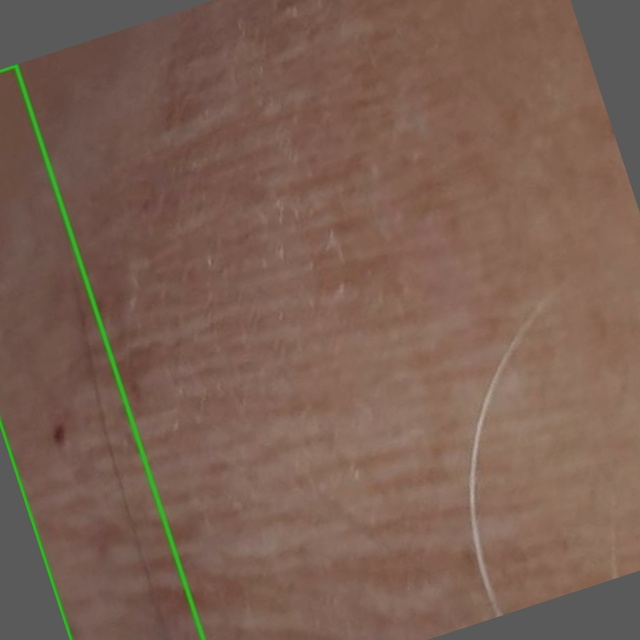Tinea Corporis: (0, 65, 203, 639)
